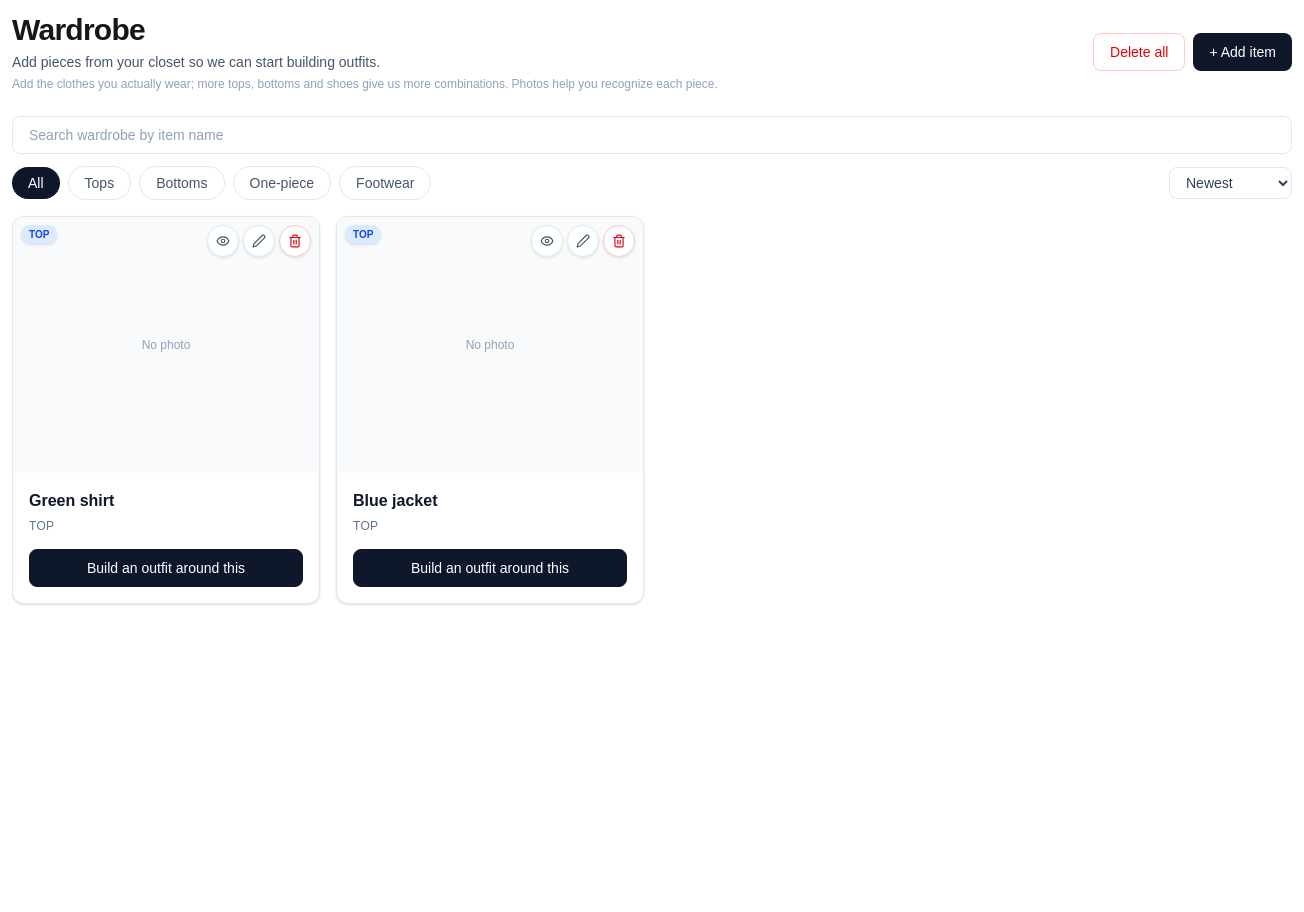
it: shows only server-confirmed survivors after a delete fails before completion
Expected: the heading "Green shirt" is shown, [29,492,114,509]
Click the button "Delete all".
click(1139, 52)  # box [1093,33,1186,71]
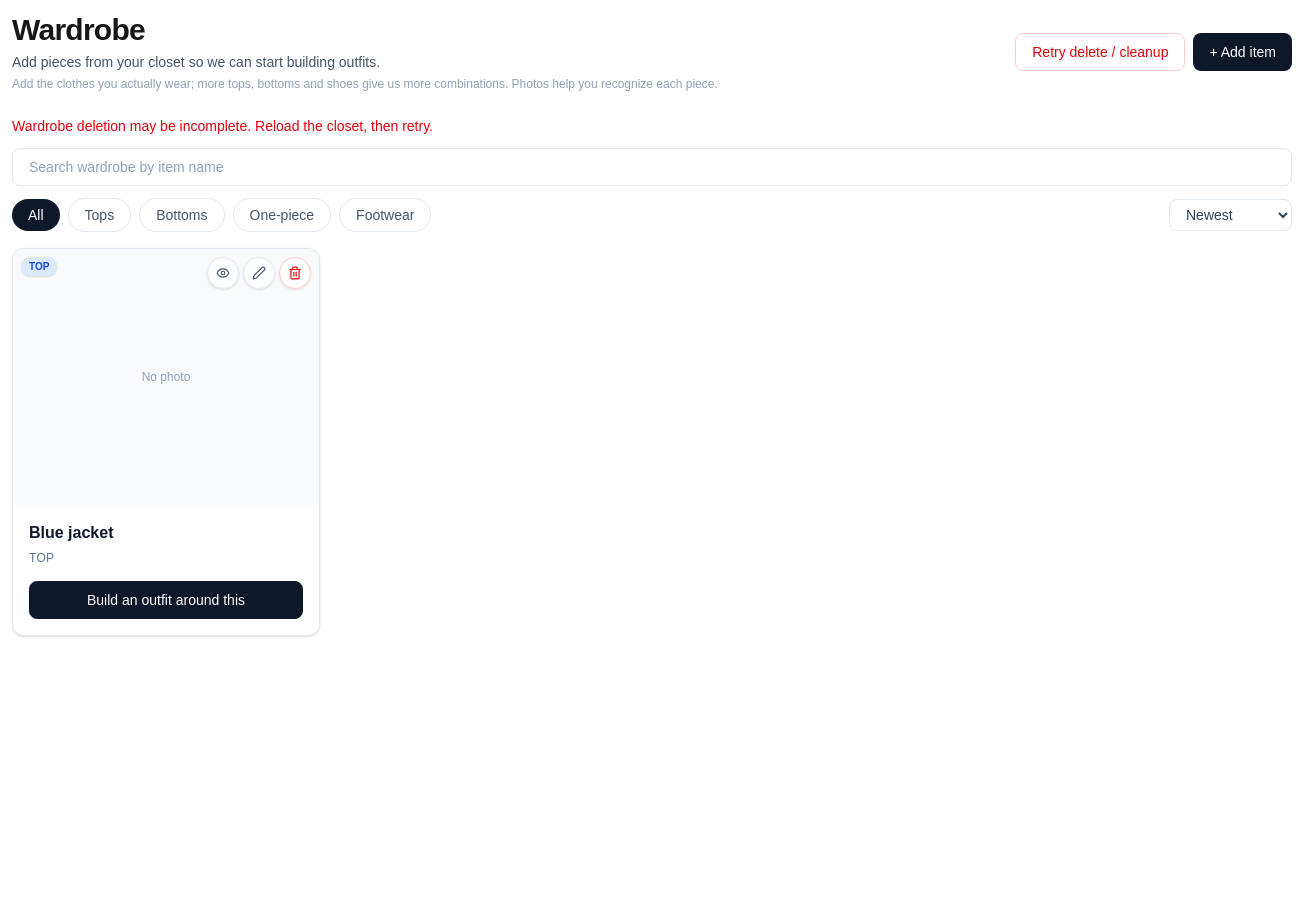
Expected: the heading "Blue jacket" is shown, [29,524,114,541]
Now the text "Wardrobe deletion may be incomplete" is shown, box [12,118,433,134]
Now the heading "Green shirt" is gone
